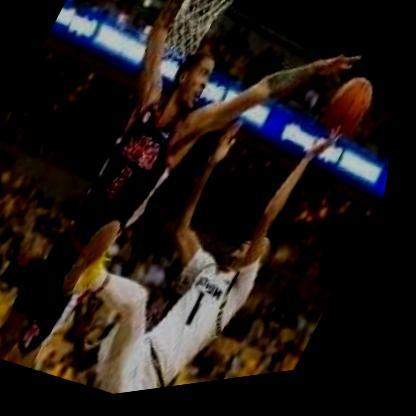basketball: (315, 73, 391, 156)
